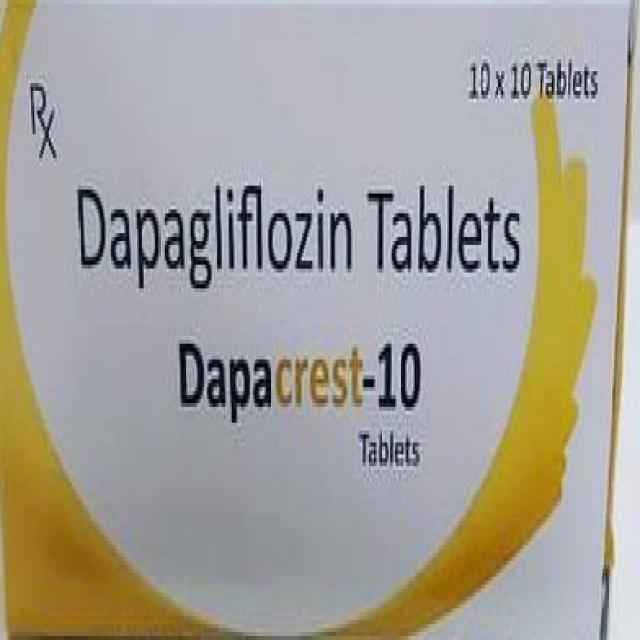drug-name: (174, 336, 420, 426)
